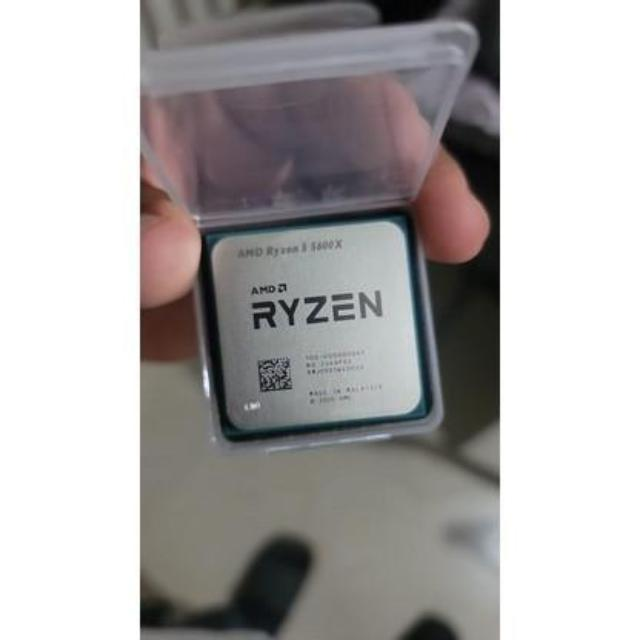CPU: (198, 216, 434, 430)
